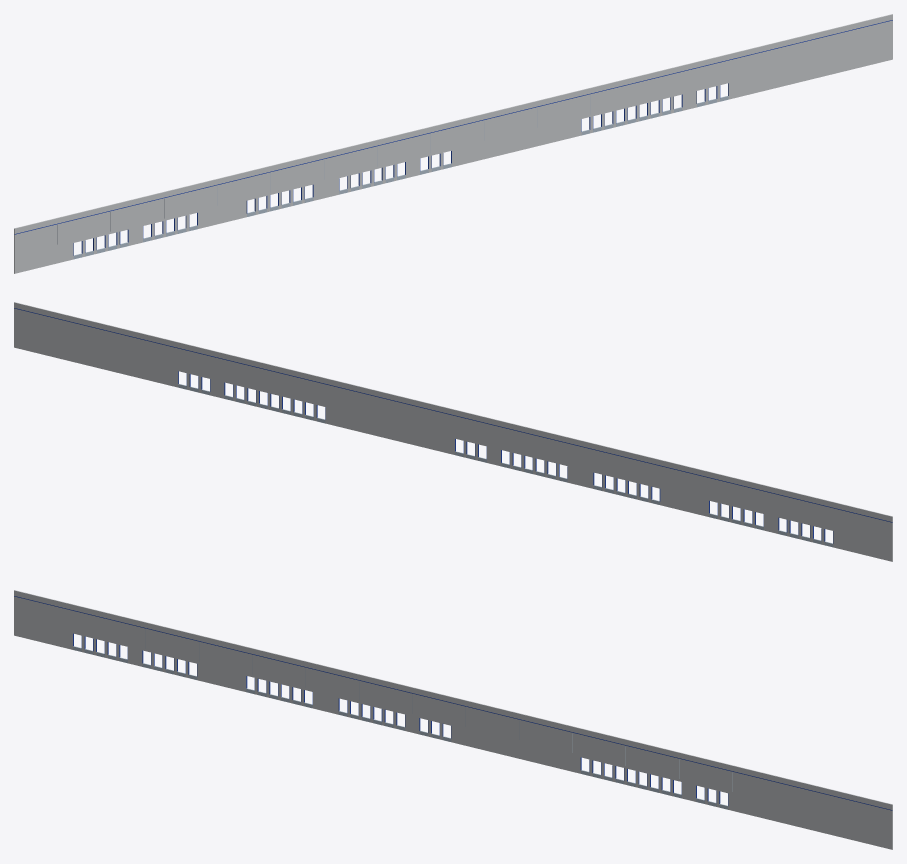
File: SM_MPR_Exterior_12.fbx
3 views of the same model, one above another, from view 1: azimuth 30°, elevation 25°; view 2: azimuth 150°, elevation 25°; view 3: azimuth 330°, elevation 25° (orthographic).
Parts seen in each view (by area): view 1: SM_MPR_Exterior_12; view 2: SM_MPR_Exterior_12; view 3: SM_MPR_Exterior_12.
Boxes of the visible parts, <box> form: SM_MPR_Exterior_12: <box>14,14,892,273</box>; SM_MPR_Exterior_12: <box>14,302,892,561</box>; SM_MPR_Exterior_12: <box>14,590,892,849</box>.
Size of the model in its own units: 30145 by 42 by 1480.
